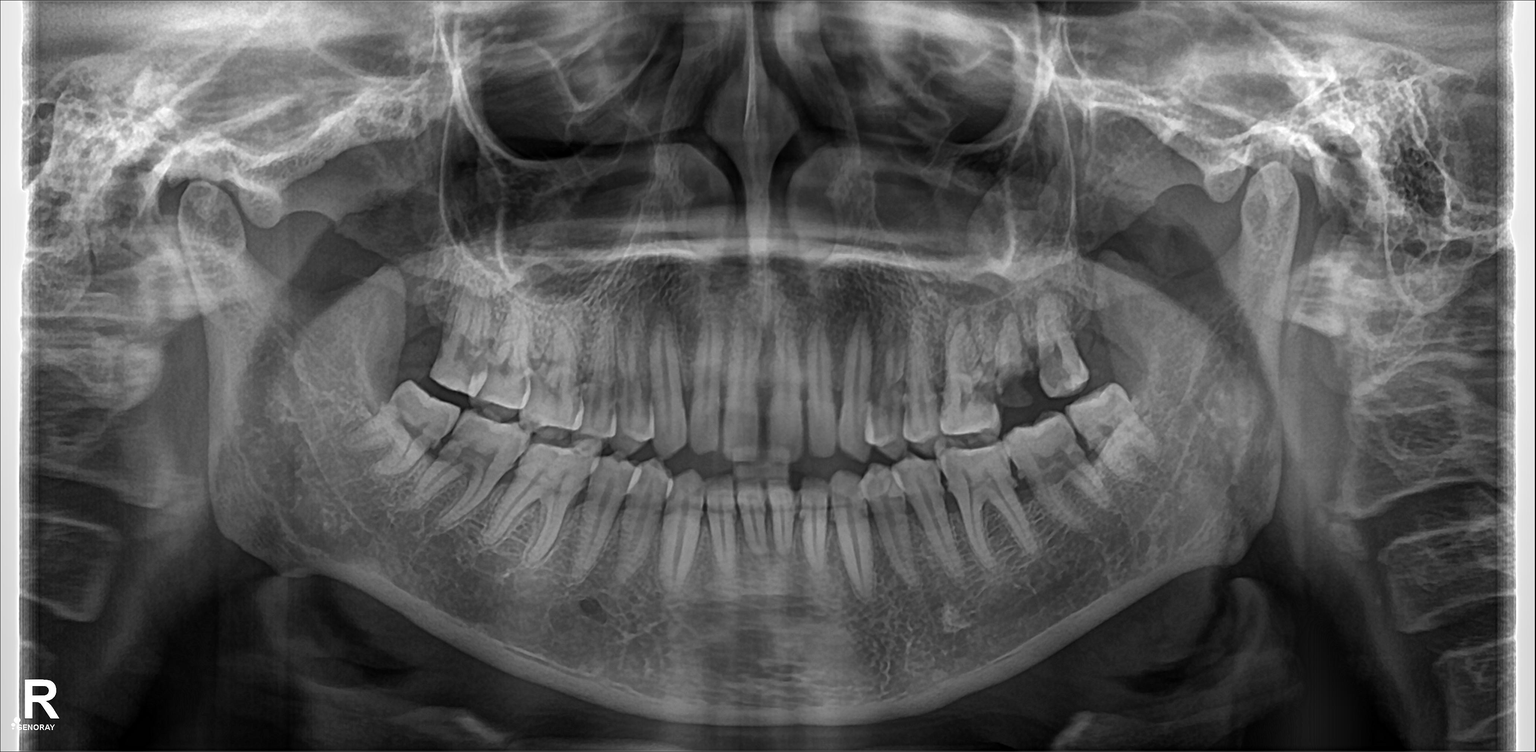Dental Caries: (983, 367, 1040, 408), (1035, 339, 1077, 384)
Impacted Third Molar: (350, 392, 459, 460), (1076, 400, 1168, 474)
Missing Tooth: (382, 287, 441, 378), (1073, 287, 1132, 374)
Retained Root: (991, 307, 1044, 419)
